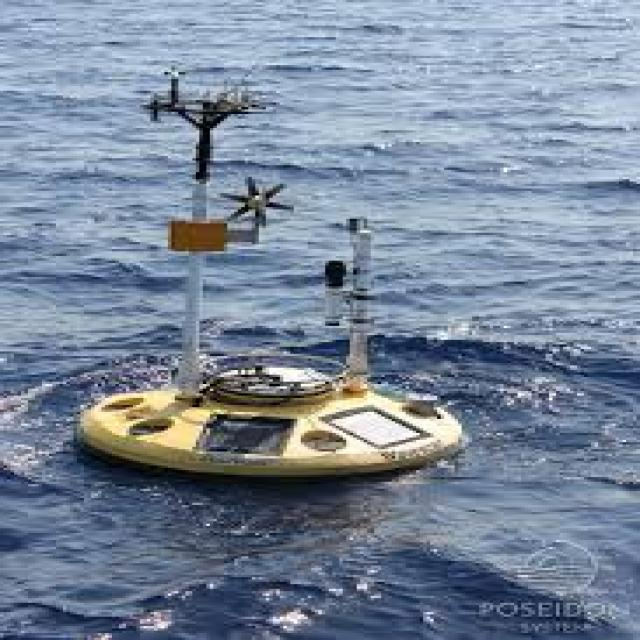buoy: (89, 72, 457, 470)
